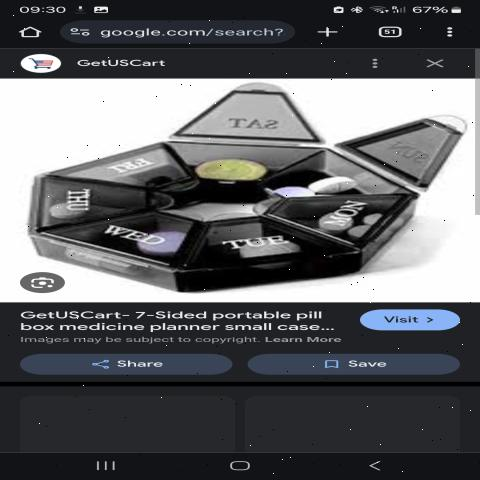PillBox: (22, 84, 450, 294)
